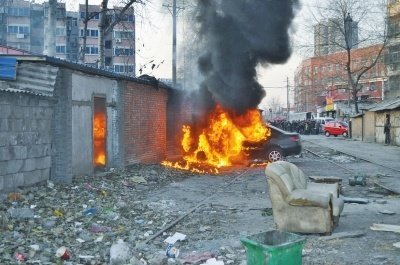fire: (162, 105, 272, 172), (93, 109, 106, 164)
